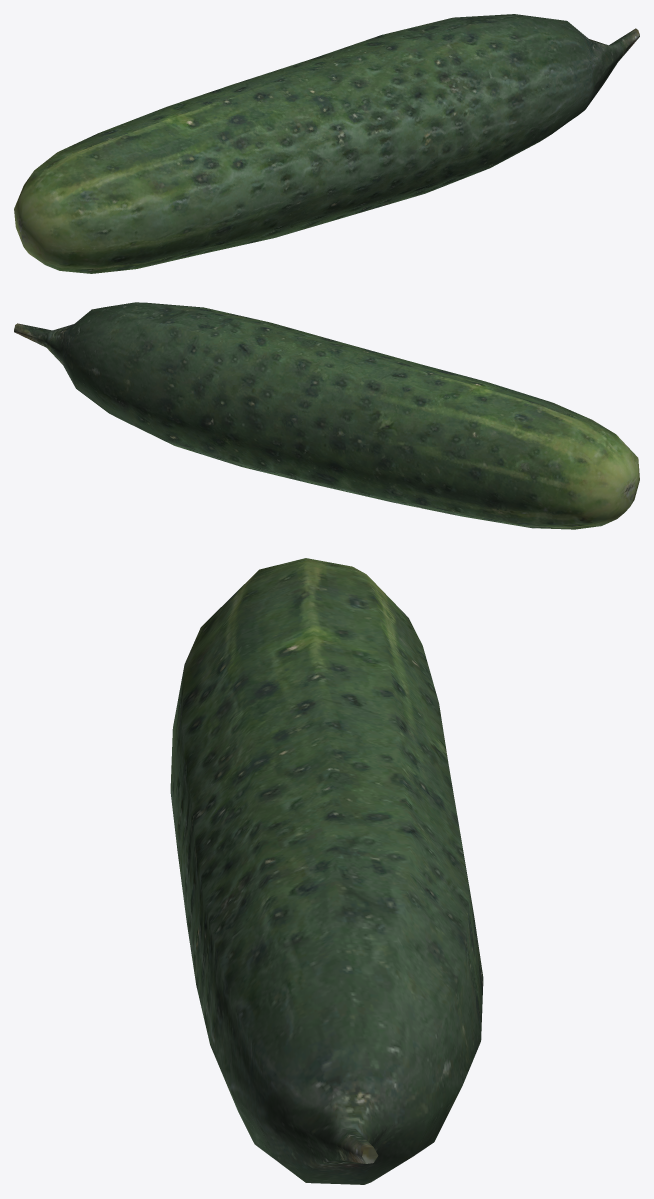
File: Огурец 4 Вариант.fbx
The picture shows the model from 3 angles, top to bottom: view 1: azimuth 30°, elevation 25°; view 2: azimuth 150°, elevation 25°; view 3: azimuth 270°, elevation 25°; orthographic projection. The views are drawn at different scales.
Visible parts, largest first — view 1: SM_foo_cucumber_01_d.001; view 2: SM_foo_cucumber_01_d.001; view 3: SM_foo_cucumber_01_d.001.
Boxes of the visible parts, x1,y1,x2,y2 form: SM_foo_cucumber_01_d.001: (14, 14, 639, 273); SM_foo_cucumber_01_d.001: (14, 302, 639, 529); SM_foo_cucumber_01_d.001: (170, 558, 483, 1184).
Bounding box in the file's own units: 1862 × 416 × 419.
1 material, 1 textured.
